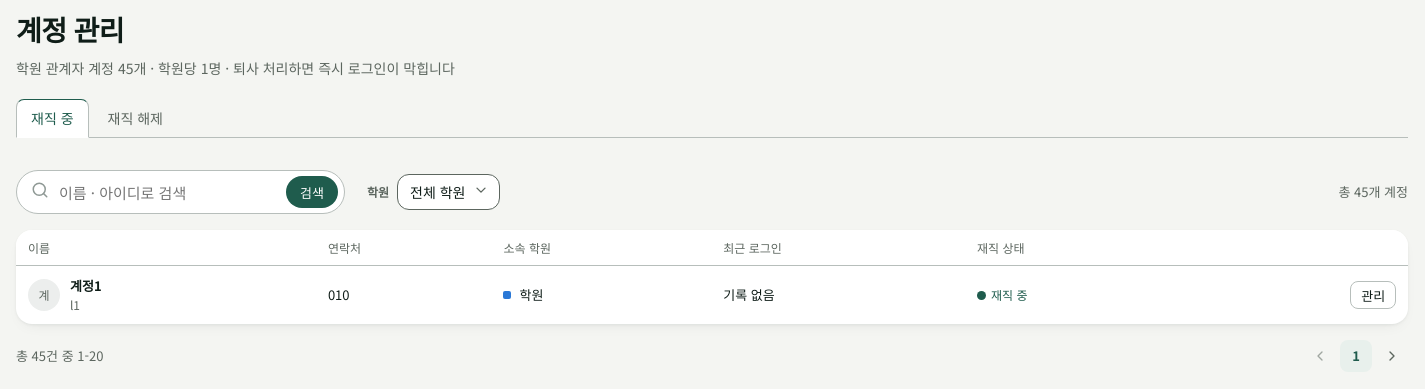
Test case: 메인 관리자 목록 — 총 개수와 다음 쪽 › 관계자 계정 — 머리글은 서버의 total_count 를 쓰고 [다음] 이 다음 쪽(page=1)을 읽는다
The image size is (1425, 389).
Expected: the text "총 45개 계정" is shown, [1338,183,1408,202]
Step 1. Click the button named "다음" → (1392, 356), box [1376,340,1408,372]
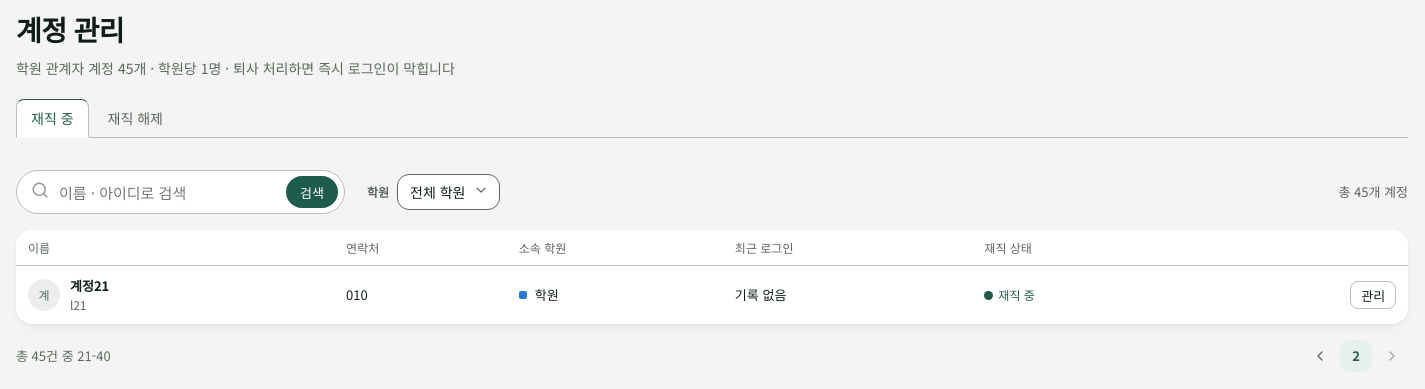
Expected: the text "계정21" is shown, [70,276,109,295]
